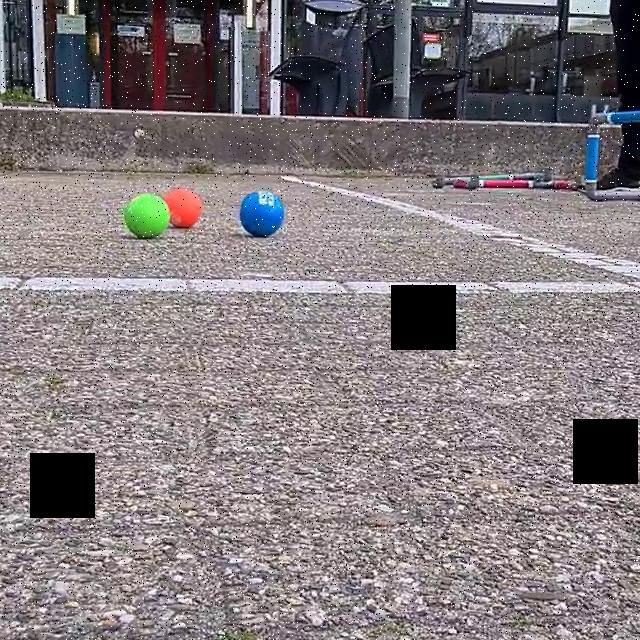ball: (121, 190, 176, 240), (159, 182, 207, 234), (238, 189, 286, 238)
